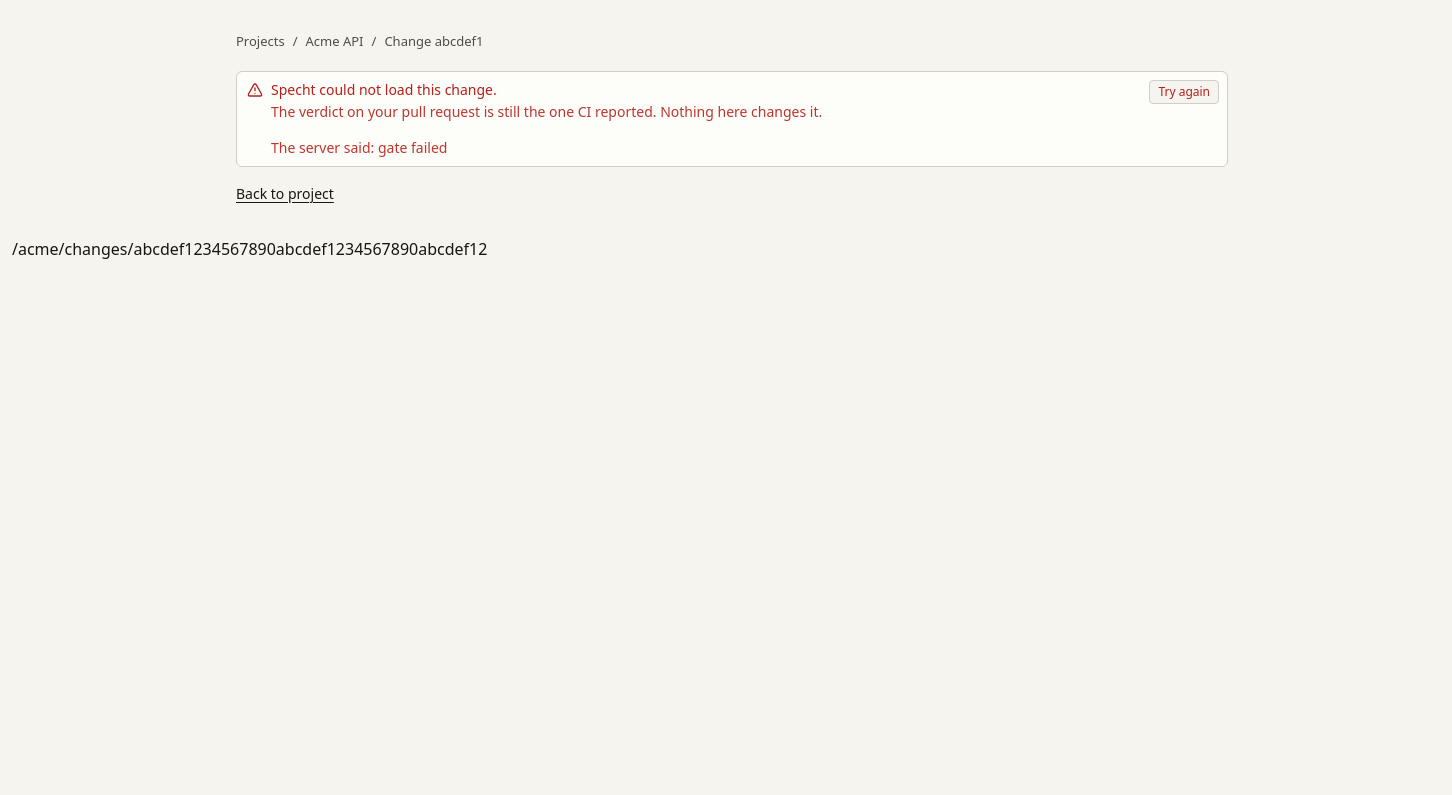
Test: ChangeView › retries the requests behind the error and renders the change once they succeed
The image size is (1452, 795).
Expected: the message shows "gate failed", x1=378 y1=138 x2=448 y2=157
Click the button "Try again": x=1184, y=92 x1=1149 y1=80 x2=1219 y2=104
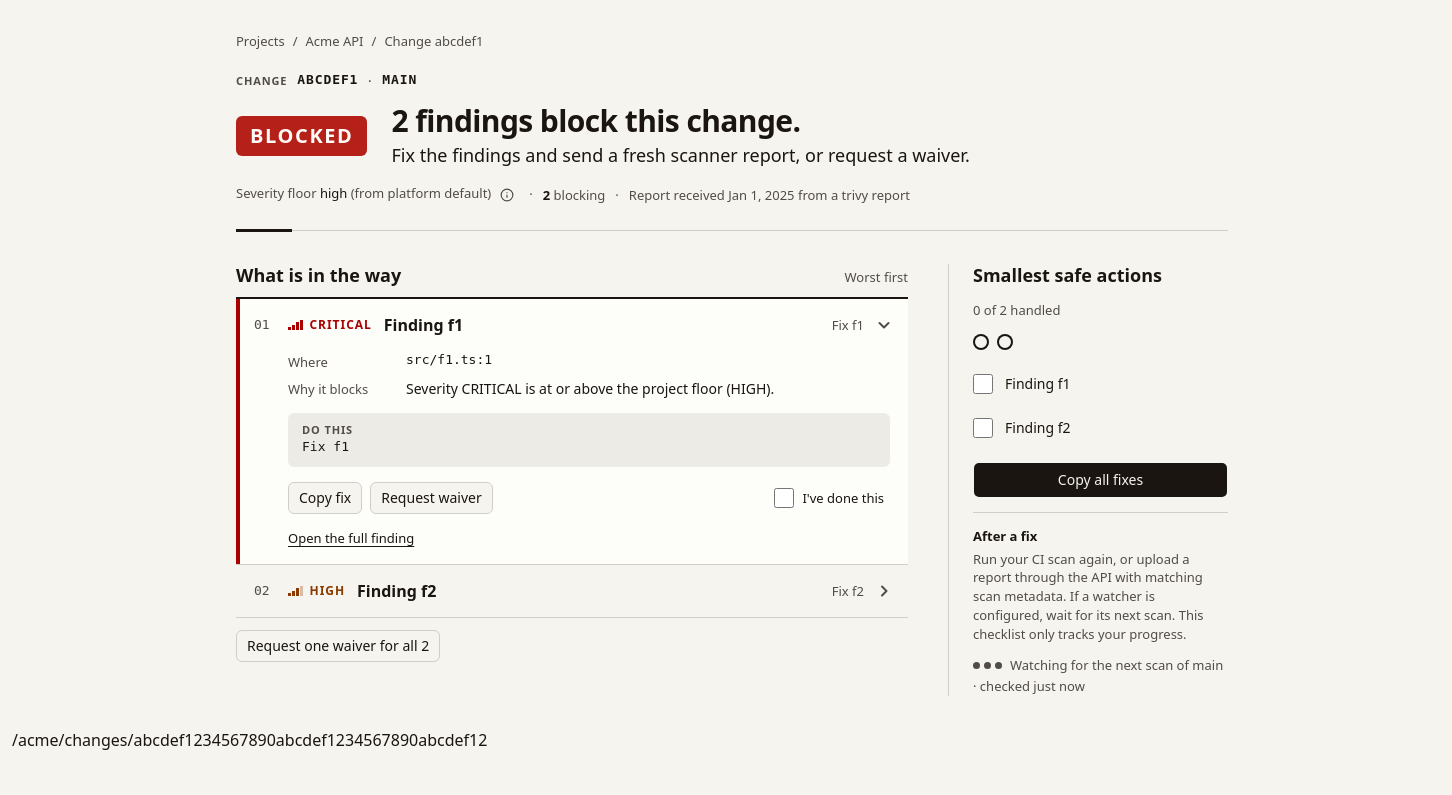
Now the list named "Blocking findings" is shown, box x1=236 y1=297 x2=908 y2=618
